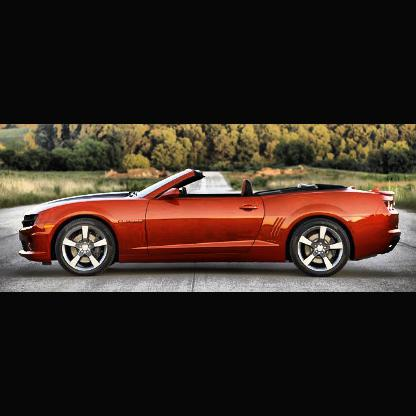Chevrolet Camaro Convertible 2012: (20, 168, 402, 277)
